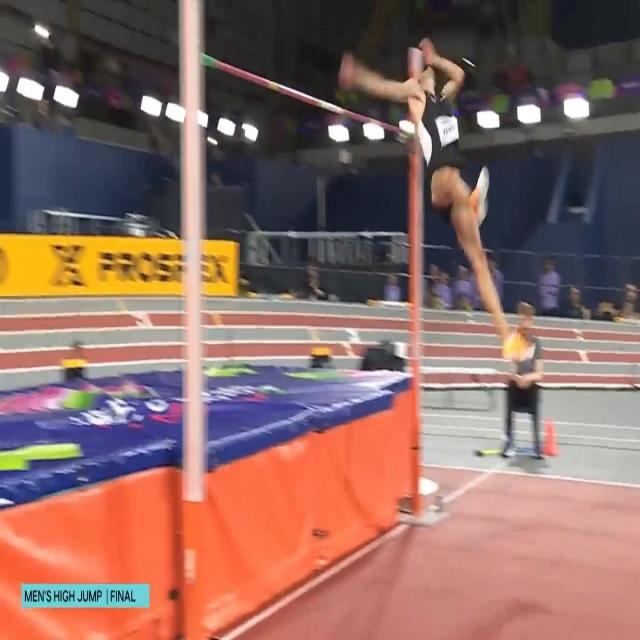jump: (340, 45, 536, 362)
